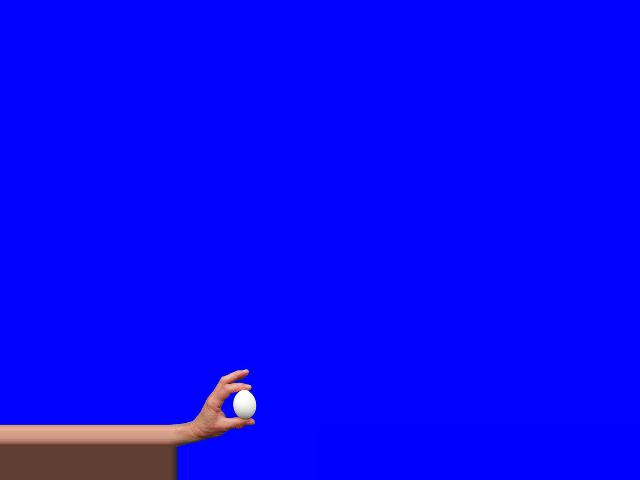egg: (233, 389, 256, 419)
